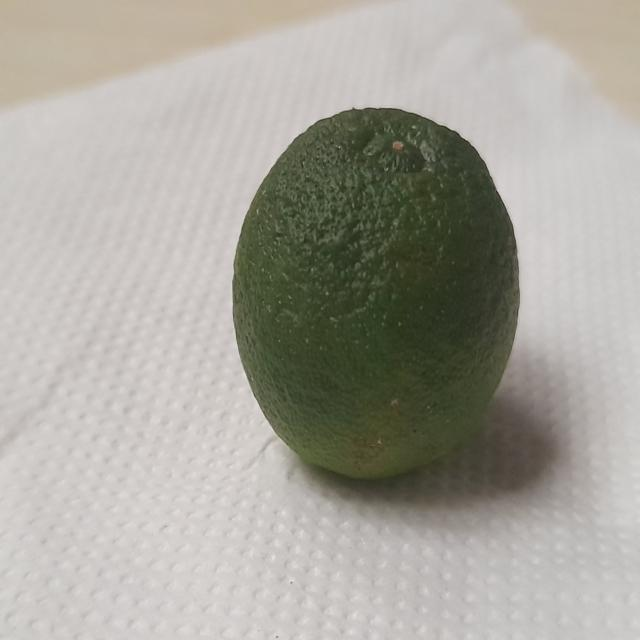heathy: (224, 97, 528, 495)
